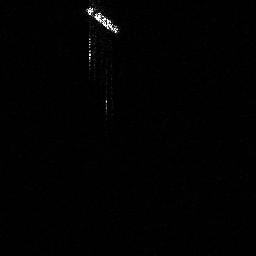ship: (82, 4, 124, 38)
